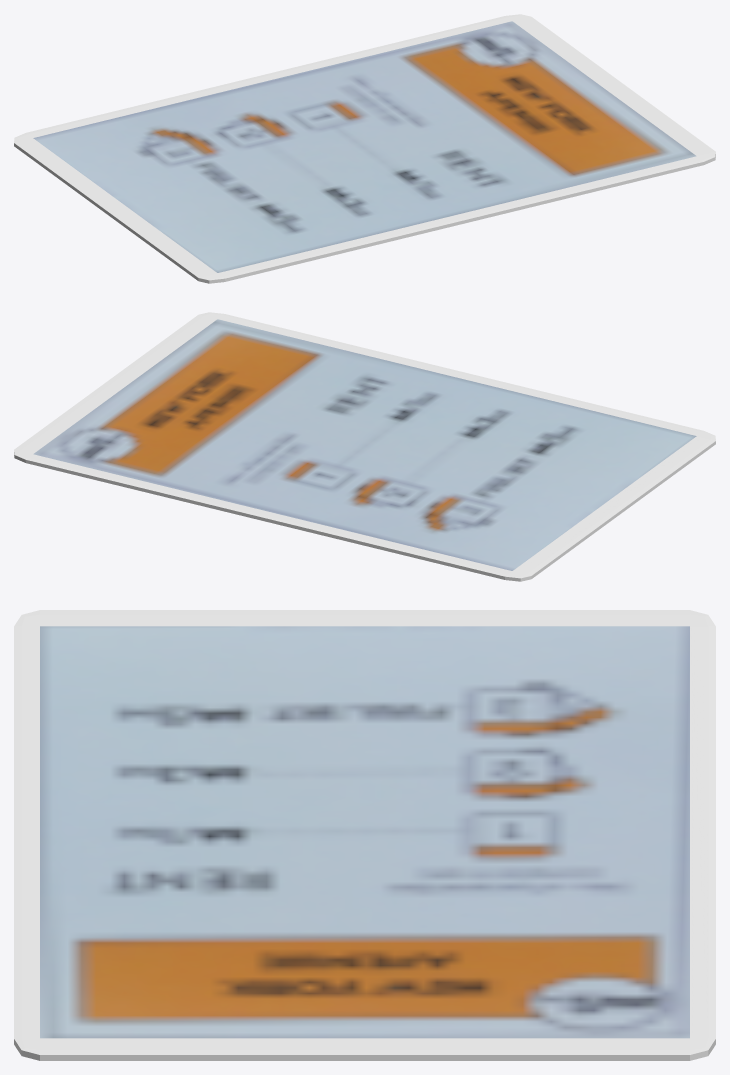
File: newyork.glb
The picture shows the model from 3 angles, top to bottom: view 1: azimuth 30°, elevation 25°; view 2: azimuth 150°, elevation 25°; view 3: azimuth 270°, elevation 25°; orthographic projection. The views are drawn at different scales.
Parts seen in each view (by area): view 1: Cube; view 2: Cube; view 3: Cube.
Boxes of the visible parts, x1=… form: Cube: x1=14, y1=14, x2=715, y2=283; Cube: x1=14, y1=312, x2=715, y2=581; Cube: x1=14, y1=610, x2=715, y2=1060.
Size of the model in its own units: 0.6 by 0.004 by 0.4.
Materials: 3 (2 with a texture image).
